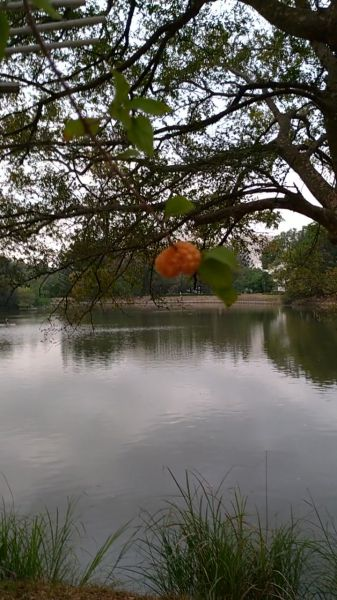eggs: (151, 238, 207, 285)
